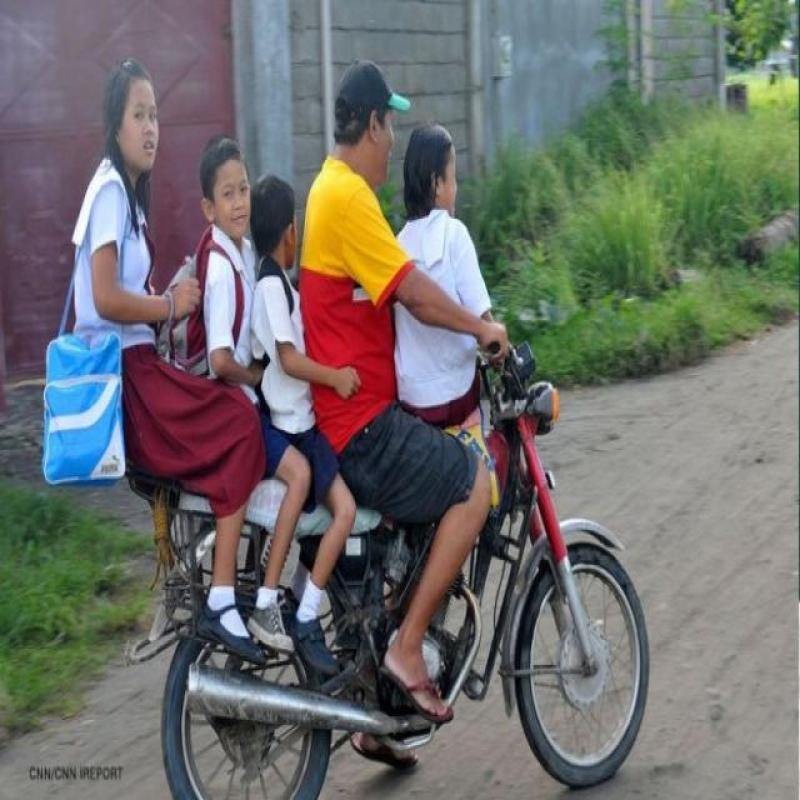nohelmet: (318, 55, 413, 194), (94, 49, 174, 180)
